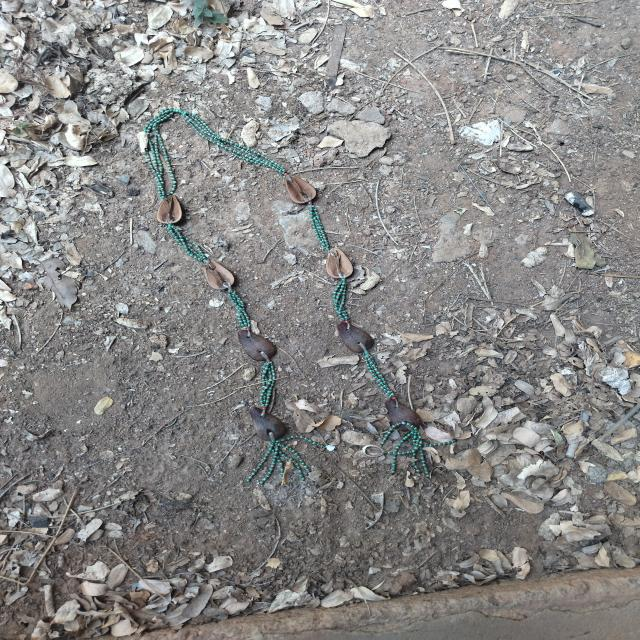facedown: (243, 402, 296, 446), (379, 395, 431, 439), (230, 324, 286, 364), (330, 314, 380, 357)
faceup: (190, 252, 246, 295), (267, 168, 324, 208), (153, 188, 193, 234), (321, 243, 361, 285)
